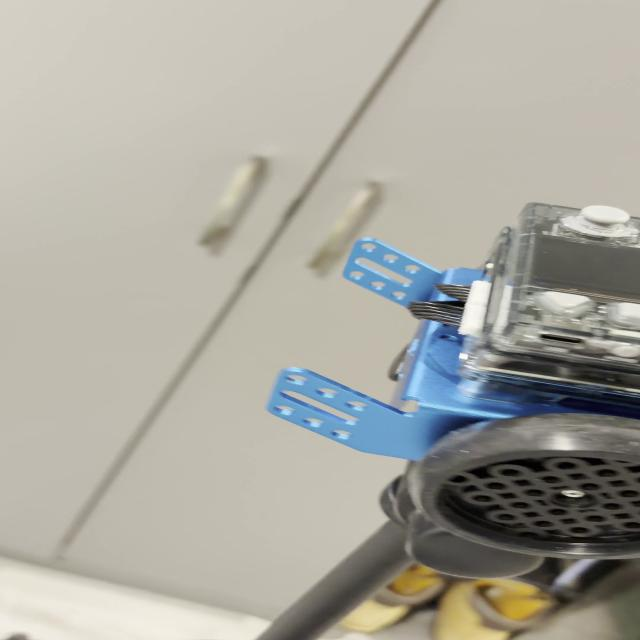mbot-detection: (265, 198, 640, 561)
